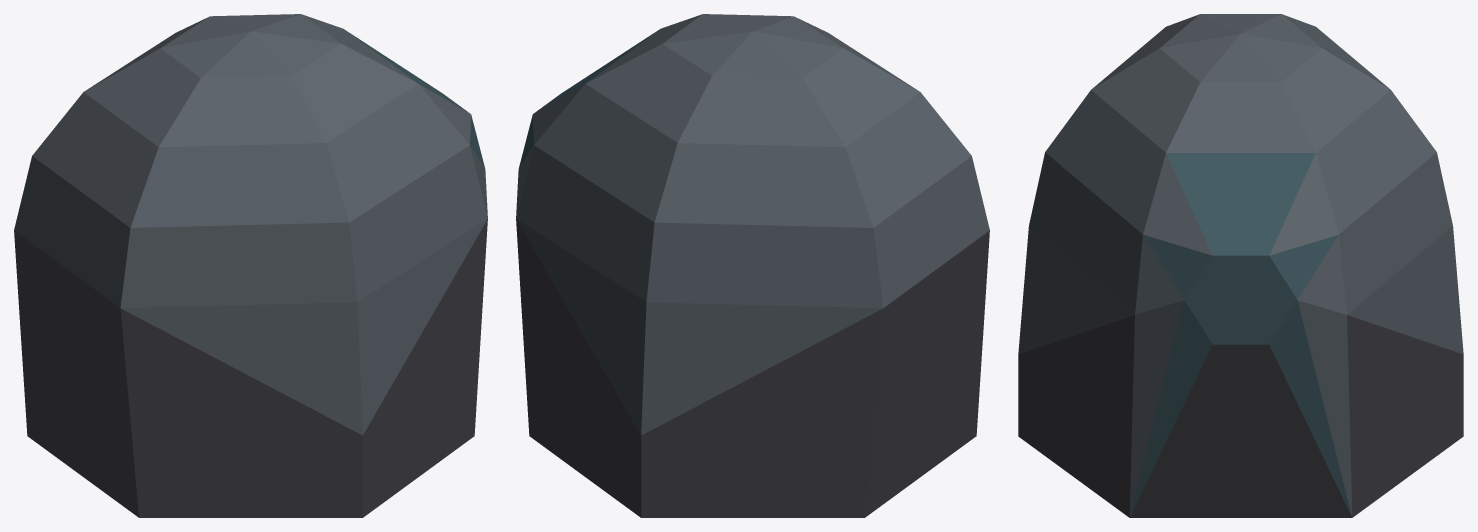
The model's file is GEN_EOIR_T5_COLLISION.fbx.
3 views of the same model, side by side, from view 1: azimuth 30°, elevation 25°; view 2: azimuth 150°, elevation 25°; view 3: azimuth 270°, elevation 25° (orthographic).
Parts seen in each view (by area): view 1: UCX_SEN_GEN_EOIR_T5_00; view 2: UCX_SEN_GEN_EOIR_T5_00; view 3: UCX_SEN_GEN_EOIR_T5_00.
Boxes of the visible parts, <box> form: UCX_SEN_GEN_EOIR_T5_00: <box>14,14,487,517</box>; UCX_SEN_GEN_EOIR_T5_00: <box>516,14,989,517</box>; UCX_SEN_GEN_EOIR_T5_00: <box>1018,14,1463,517</box>.
Bounding box in the file's own units: 0.7922 × 0.7875 × 0.7862.
